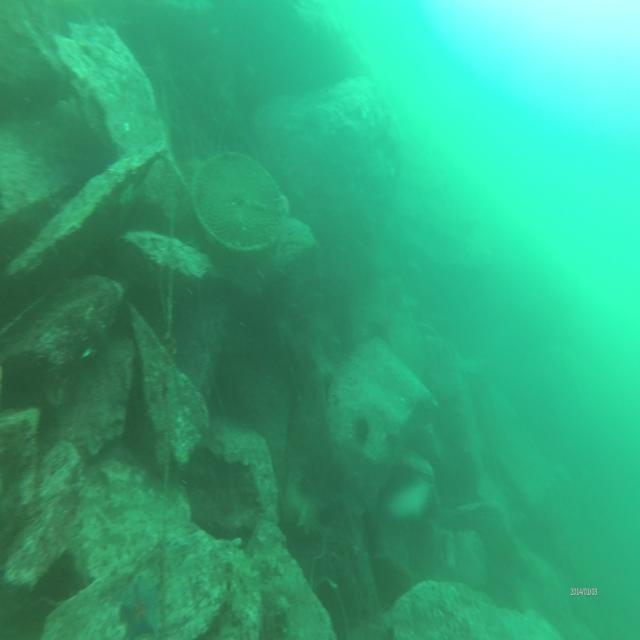echinus: (353, 411, 374, 443)
starfish: (122, 577, 159, 639)
